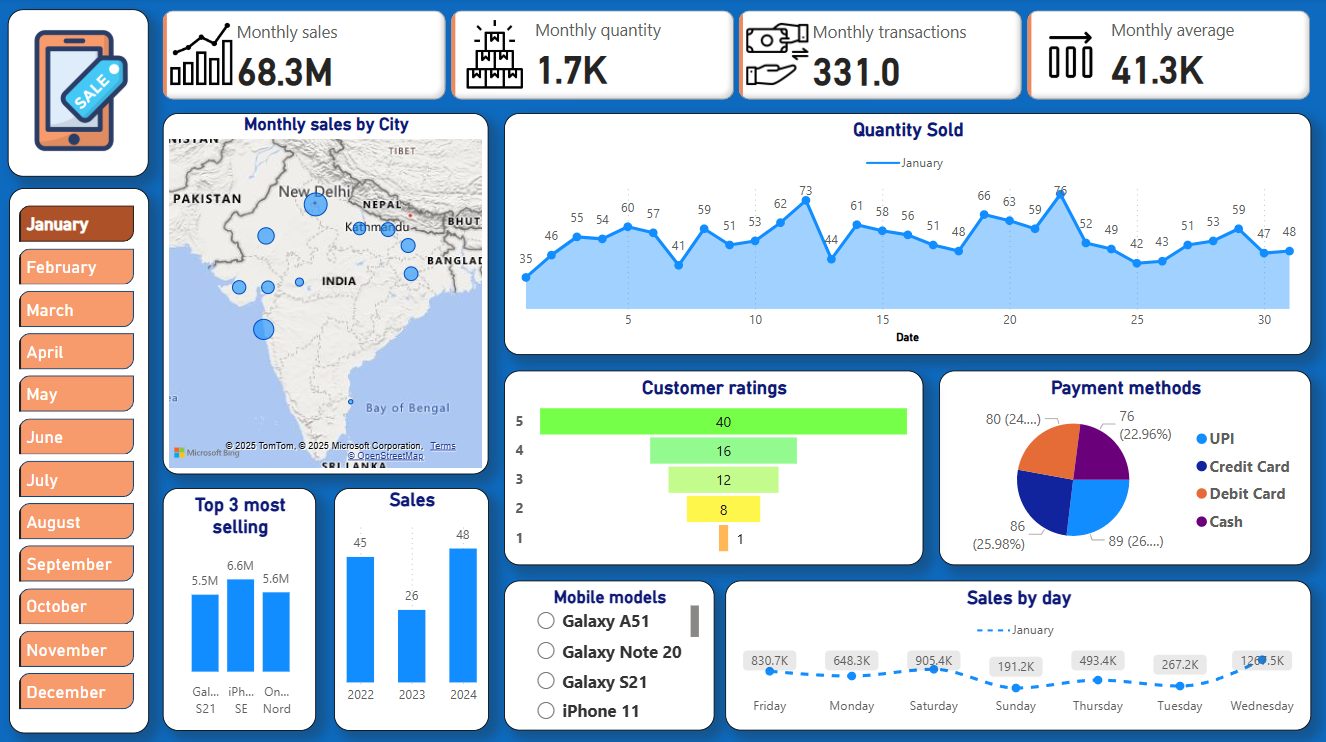

Layout of this report page (visuals, bound fields, positions):
{"tool":"powerbi","page":{"name":"Page 1","canvas":[1280,720],"ordinal":0},"visuals":[{"type":"shape","box":[8.4,10.9,136.3,161.7],"z":0},{"type":"shape","box":[9.7,183.4,135.1,526],"z":1000},{"type":"image","box":[14.5,25.3,130.3,127.9],"z":2000},{"type":"advancedSlicerVisual","fields":{"Values":["Sales _data.Date.Variation.Date Hierarchy.Month"]},"box":[14.5,195.4,121.9,501.9],"z":3000},{"type":"cardVisual","fields":{"Data":["Sales _data.Total Sales","Sales _data.Total Quantity","Sales _data.Transactions","Sales _data.Average"]},"box":[153.2,7.2,1117.2,96.5],"z":4000},{"type":"map","fields":{"Category":["Sales _data.City"],"Size":["Sales _data.Total Sales"]},"box":[157.8,111.1,314.2,348.5],"z":5000},{"type":"lineChart","title":"Quantity Sold","fields":{"Series":["Sales _data.Date.Variation.Date Hierarchy.Month"],"Category":["Sales _data.Date.Variation.Date Hierarchy.Day"],"Y":["Sales _data.monthly_quantity_int"]},"box":[487.5,110.6,779,233.7],"z":6000},{"type":"columnChart","title":"Sales","fields":{"Y":["Sales _data.monthly_quantity_int"],"Category":["Sales _data.Date.Variation.Date Hierarchy.Year"],"Series":["Sales _data.Date.Variation.Date Hierarchy.Month"]},"box":[323.3,472.9,149.6,234],"z":7000},{"type":"columnChart","title":"Top 3 most selling","fields":{"Category":["Sales _data.Mobile Model"],"Y":["Sales _data.Monthly sales"],"Series":["Sales _data.Date.Variation.Date Hierarchy.Month"]},"box":[158,472.9,148.4,234],"z":8000},{"type":"pieChart","title":"Payment methods","fields":{"Category":["Sales _data.Payment Method"],"Y":["CountNonNull(Sales _data.Payment Method)"]},"box":[907.2,359.6,359.6,188.1],"z":9000},{"type":"funnel","title":"Customer ratings","fields":{"Category":["Sales _data.Customer Ratings"],"Y":["Sum(Sales _data.Customer Ratings)"]},"box":[487.4,359.6,404.7,188.1],"z":10000},{"type":"shape","title":"Mobile models","box":[487.4,562.7,203.1,144.4],"z":11000},{"type":"slicer","fields":{"Values":["Sales _data.Mobile Model"]},"box":[506.7,581.5,173.7,125.5],"z":12000},{"type":"lineChart","title":"Sales by day","fields":{"Series":["Sales _data.Date.Variation.Date Hierarchy.Month"],"Category":["Sales _data.Day Name"],"Y":["Sales _data.Monthly sales"]},"box":[701.1,562.7,565.7,144.4],"z":13000}]}

Visuals, with their boxes in screenshot pixels (x1, y1, x2, y2), scaled from the page's 1280x720 canvas onto the 1326x742 screenshot:
shape: 9:11:150:178
shape: 10:189:150:731
image: 15:26:150:158
advancedSlicerVisual - Sales _data.Date.Variation.Date Hierarchy.Month: 15:201:141:719
cardVisual - Sales _data.Total Sales x Sales _data.Total Quantity: 159:7:1316:107
map - Sales _data.City x Sales _data.Total Sales: 163:114:489:474
"Quantity Sold" lineChart: 505:114:1312:355
"Sales" columnChart: 335:487:490:728
"Top 3 most selling" columnChart: 164:487:317:728
"Payment methods" pieChart: 940:371:1312:564
"Customer ratings" funnel: 505:371:924:564
"Mobile models" shape: 505:580:715:729
slicer - Sales _data.Mobile Model: 525:599:705:729
"Sales by day" lineChart: 726:580:1312:729
